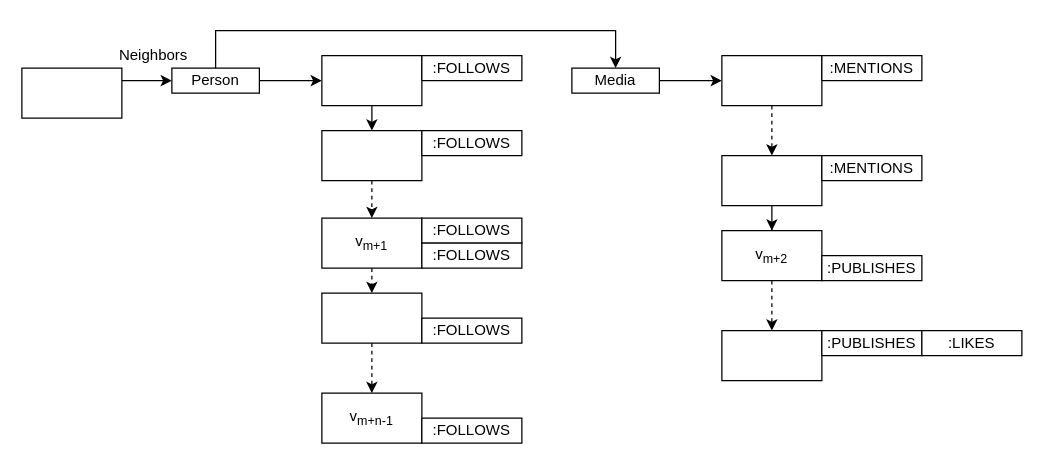
Image size: 1044x465. Some labels were removed from this diagram. Each missing label, with the box of its shape:
v 1: (21, 67, 122, 118)
v 2: (721, 54, 822, 106)
v 3: (321, 54, 422, 106)
v 5: (321, 129, 422, 181)
v m: (721, 154, 822, 206)
v m+3: (321, 292, 422, 343)
v m+n: (721, 329, 822, 381)
